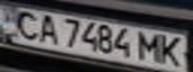4: (112, 27, 136, 58), (78, 20, 100, 52)
7: (57, 16, 84, 48)
8: (93, 24, 115, 55)
A: (33, 12, 60, 45)
C: (9, 8, 45, 41)
K: (154, 34, 187, 68)
M: (136, 30, 163, 63)
